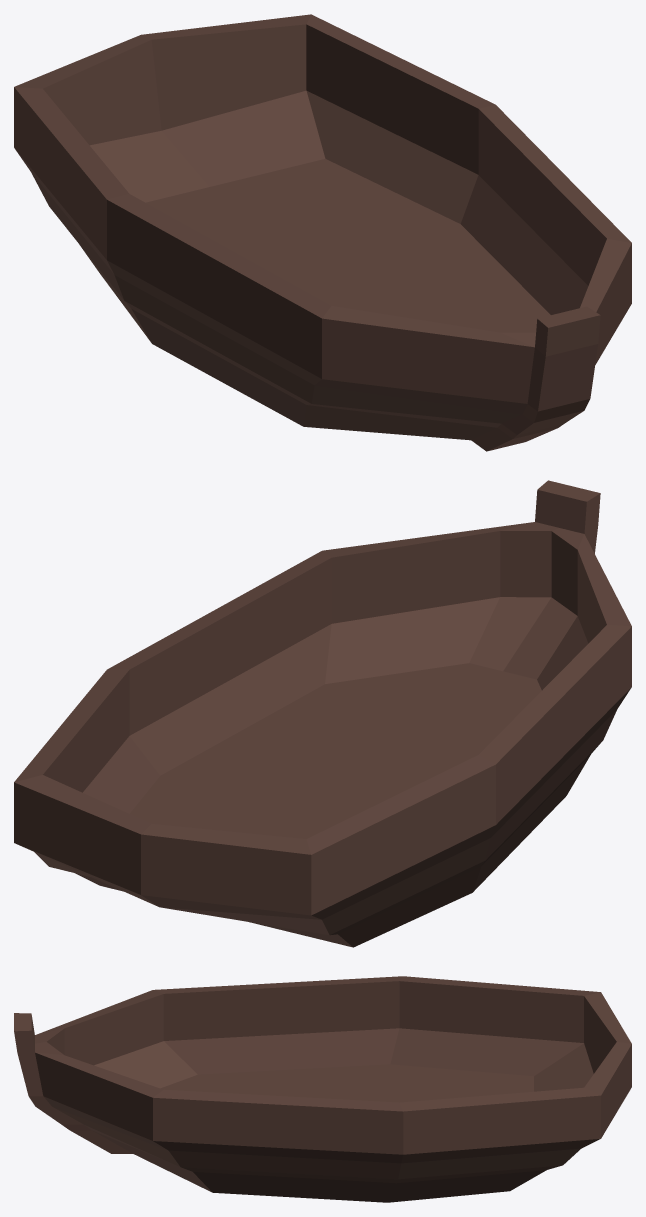
File: rowboat.glb
3 views of the same model, one above another, from view 1: azimuth 30°, elevation 25°; view 2: azimuth 150°, elevation 25°; view 3: azimuth 270°, elevation 25° (orthographic). The views are drawn at different scales.
Visible parts, largest first — view 1: rowboat; view 2: rowboat; view 3: rowboat.
Boxes of the visible parts, x1,y1,x2,y2 form: rowboat: (14, 14, 631, 451); rowboat: (14, 480, 631, 947); rowboat: (14, 976, 631, 1202).
Size of the model in its own units: 1.87 by 0.8029 by 3.6.
